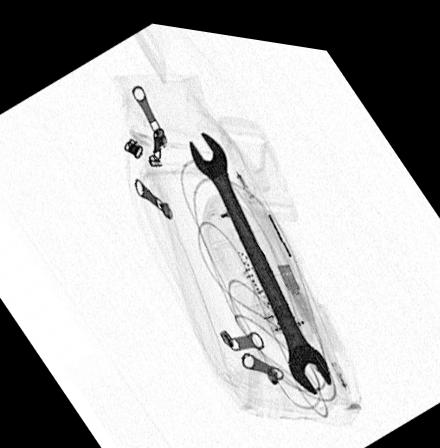Wrench: (187, 126, 332, 386)
